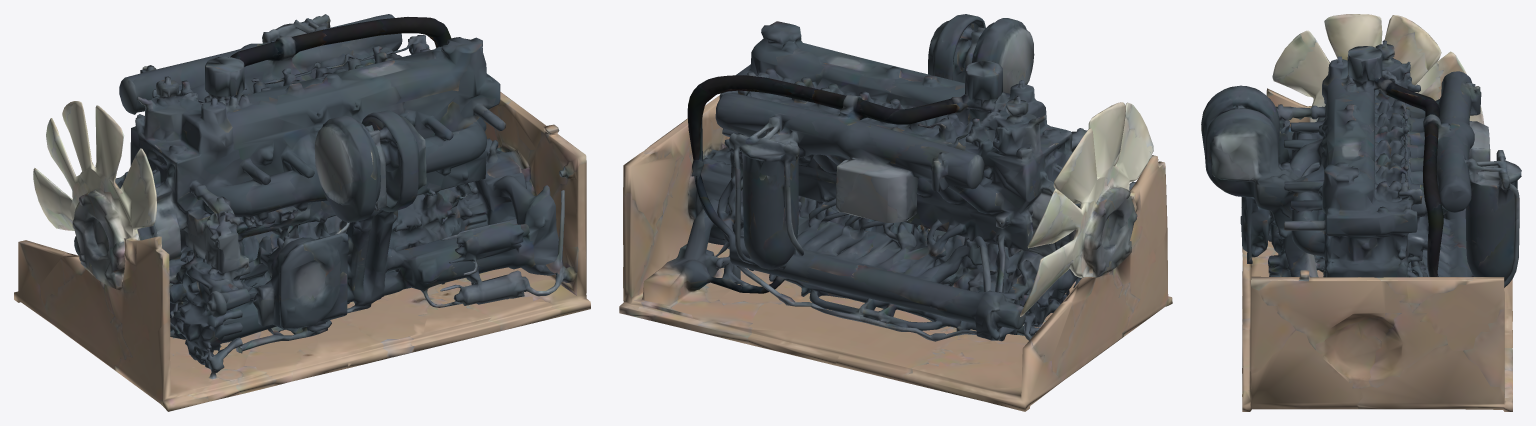
The model's file is motor-doosan-db58.glb.
3 views of the same model, side by side, from view 1: azimuth 30°, elevation 25°; view 2: azimuth 150°, elevation 25°; view 3: azimuth 270°, elevation 25° (orthographic). The views are drawn at different scales.
Bounding box in the file's own units: 1.9 × 1.11 × 1.39.
Materials: 1 (1 with a texture image).
